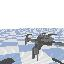drone: (22, 32, 64, 60)
